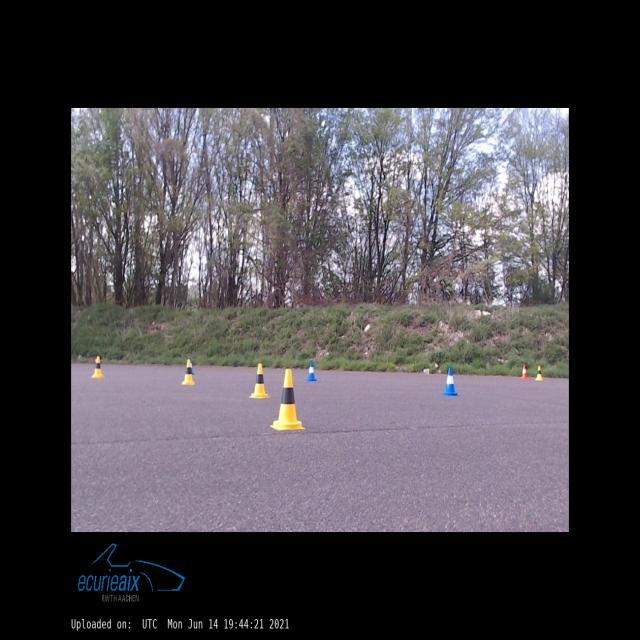blue_cone: (443, 367, 458, 396), (306, 361, 316, 381), (190, 359, 194, 374)
orange_cone: (522, 366, 527, 378)
yellow_cone: (270, 370, 305, 430), (249, 363, 268, 398), (182, 359, 194, 384), (92, 356, 103, 377), (536, 366, 542, 380)
